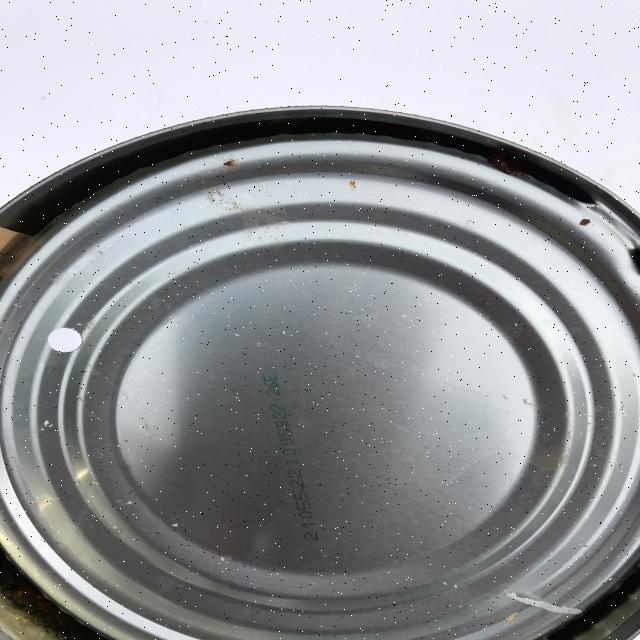metal: (1, 104, 639, 638)
